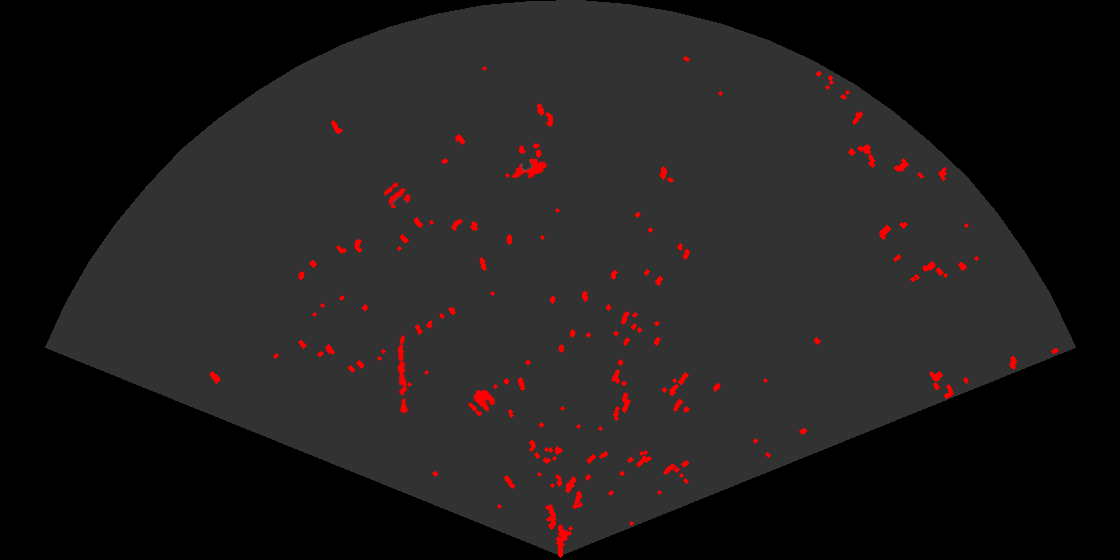AUV: (510, 157, 549, 180)
ball: (466, 388, 497, 418), (382, 181, 412, 210)
chain: (396, 333, 410, 414)
